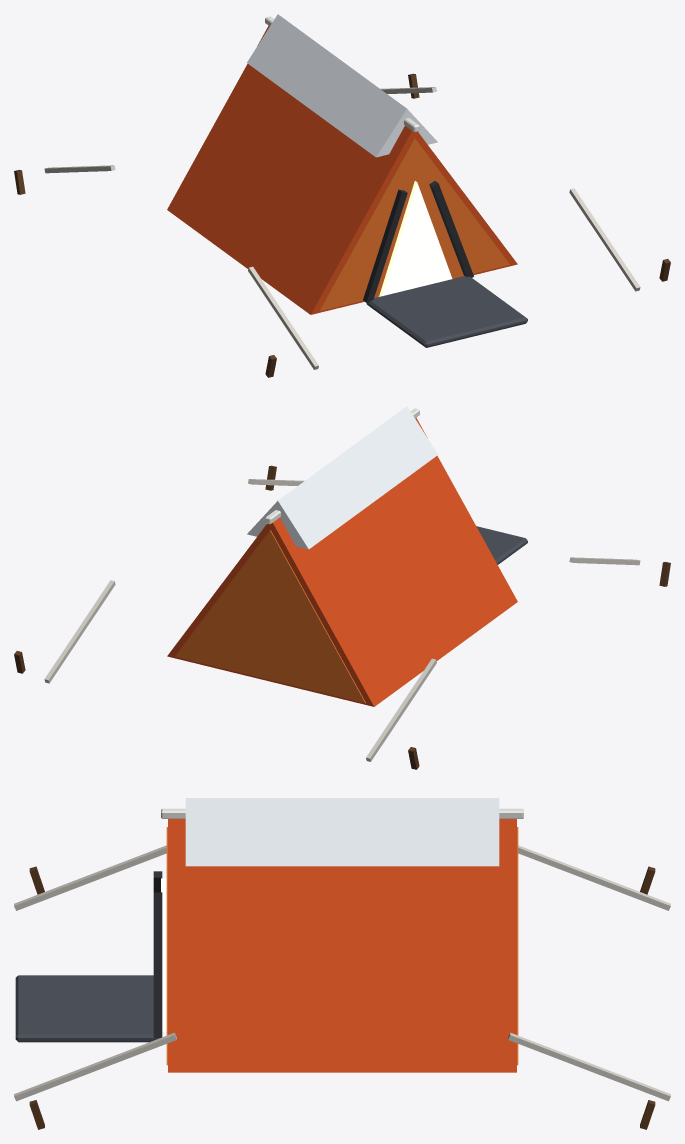
Rendered from tent.glb.
The picture shows the model from 3 angles, top to bottom: view 1: azimuth 30°, elevation 25°; view 2: azimuth 150°, elevation 25°; view 3: azimuth 270°, elevation 25°; orthographic projection. The views are drawn at different scales.
Visible parts, largest first — view 1: tent; view 2: tent; view 3: tent.
Part boxes in pixels (x1,y1,x2,y2): tent: (14, 14, 670, 377); tent: (14, 406, 670, 769); tent: (14, 798, 670, 1129).
Size of the model in its own units: 3.85 by 1.63 by 4.52.
